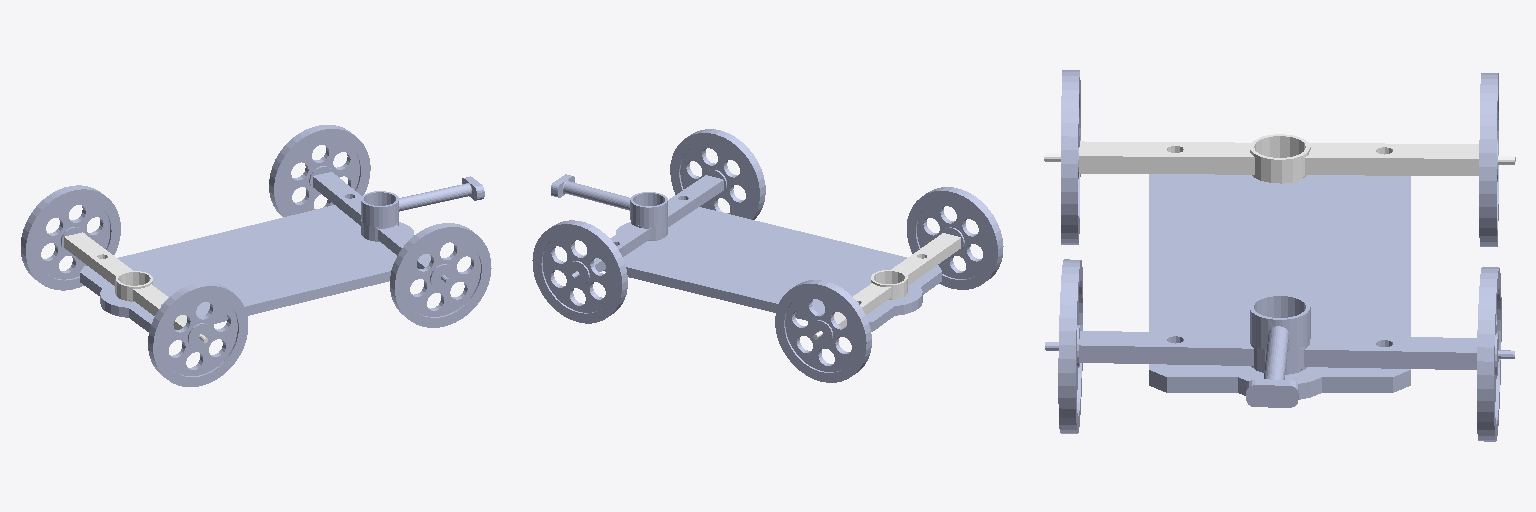
robot.urdf — ilk_urdf_denemesi:
<?xml version="1.0" encoding="utf-8"?>
<!-- This URDF was automatically created by SolidWorks to URDF Exporter! Originally created by [author] ([email redacted]) 
     Commit Version: 1.6.0-4-g7f85cfe  Build Version: 1.6.7995.38578
     For more information, please see http://wiki.ros.org/sw_urdf_exporter -->
<robot
  name="ilk_urdf_denemesi">
  <link
    name="arac_govdesi">
    <inertial>
      <origin
        xyz="3.4694E-18 -2.6021E-18 -0.005"
        rpy="0 0 0" />
      <mass
        value="0.44165" />
      <inertia
        ixx="0.00083732"
        ixy="2.1783E-20"
        ixz="-4.442E-21"
        iyy="0.0032823"
        iyz="-2.7934E-21"
        izz="0.0041123" />
    </inertial>
    <visual>
      <origin
        xyz="0 0 0"
        rpy="0 0 0" />
      <geometry>
        <mesh
          filename="package://ilk_urdf_denemesi/meshes/arac_govdesi.STL" />
      </geometry>
      <material
        name="">
        <color
          rgba="0.79216 0.81961 0.93333 1" />
      </material>
    </visual>
    <collision>
      <origin
        xyz="0 0 0"
        rpy="0 0 0" />
      <geometry>
        <mesh
          filename="package://ilk_urdf_denemesi/meshes/arac_govdesi.STL" />
      </geometry>
    </collision>
  </link>
  <link
    name="on_aks">
    <inertial>
      <origin
        xyz="0.0121919072284463 -0.000539071904290639 -0.0128442176525162"
        rpy="0 0 0" />
      <mass
        value="0.0629857665072841" />
      <inertia
        ixx="0.000230335933993847"
        ixy="-8.99928503974113E-06"
        ixz="1.68802234457314E-11"
        iyy="2.71934378558384E-05"
        iyz="3.31750727949568E-12"
        izz="0.000255953839381208" />
    </inertial>
    <visual>
      <origin
        xyz="0 0 0"
        rpy="0 0 0" />
      <geometry>
        <mesh
          filename="package://ilk_urdf_denemesi/meshes/on_aks.STL" />
      </geometry>
      <material
        name="">
        <color
          rgba="0.792156862745098 0.819607843137255 0.933333333333333 1" />
      </material>
    </visual>
    <collision>
      <origin
        xyz="0 0 0"
        rpy="0 0 0" />
      <geometry>
        <mesh
          filename="package://ilk_urdf_denemesi/meshes/on_aks.STL" />
      </geometry>
    </collision>
  </link>
  <joint
    name="onaks"
    type="continuous">
    <origin
      xyz="0.13 0 0.025"
      rpy="0 0 0" />
    <parent
      link="arac_govdesi" />
    <child
      link="on_aks" />
    <axis
      xyz="0 0 1" />
    <limit
      effort="20"
      velocity="20" />
    <dynamics
      damping="0.01"
      friction="0.01" />
  </joint>
  <link
    name="on_sag_teker">
    <inertial>
      <origin
        xyz="5.13478148889135E-16 1.49186218934005E-16 0"
        rpy="0 0 0" />
      <mass
        value="0.0510398850465441" />
      <inertia
        ixx="3.84020648959416E-05"
        ixy="-2.54347677969653E-20"
        ixz="2.11758236813575E-21"
        iyy="3.84020648959417E-05"
        iyz="-1.17059366520985E-21"
        izz="7.61460321044019E-05" />
    </inertial>
    <visual>
      <origin
        xyz="0 0 0"
        rpy="0 0 0" />
      <geometry>
        <mesh
          filename="package://ilk_urdf_denemesi/meshes/on_sag_teker.STL" />
      </geometry>
      <material
        name="">
        <color
          rgba="0.792156862745098 0.819607843137255 0.933333333333333 1" />
      </material>
    </visual>
    <collision>
      <origin
        xyz="0 0 0"
        rpy="0 0 0" />
      <geometry>
        <mesh
          filename="package://ilk_urdf_denemesi/meshes/on_sag_teker.STL" />
      </geometry>
    </collision>
  </link>
  <joint
    name="onsag"
    type="continuous">
    <origin
      xyz="-0.0053005 -0.11988 -0.0175"
      rpy="1.5708 0 -0.044185" />
    <parent
      link="on_aks" />
    <child
      link="on_sag_teker" />
    <axis
      xyz="0 0 1" />
    <limit
      effort="200"
      velocity="200" />
    <dynamics
      damping="0.1"
      friction="0.1" />
  </joint>
  <link
    name="on_sol_teker">
    <inertial>
      <origin
        xyz="5.13478148889135E-16 -2.37657116208823E-16 2.77555756156289E-17"
        rpy="0 0 0" />
      <mass
        value="0.0510398850465443" />
      <inertia
        ixx="3.84020648959417E-05"
        ixy="1.39282940059586E-20"
        ixz="-3.49401090742399E-21"
        iyy="3.84020648959417E-05"
        iyz="4.85626919134204E-21"
        izz="7.61460321044021E-05" />
    </inertial>
    <visual>
      <origin
        xyz="0 0 0"
        rpy="0 0 0" />
      <geometry>
        <mesh
          filename="package://ilk_urdf_denemesi/meshes/on_sol_teker.STL" />
      </geometry>
      <material
        name="">
        <color
          rgba="0.792156862745098 0.819607843137255 0.933333333333333 1" />
      </material>
    </visual>
    <collision>
      <origin
        xyz="0 0 0"
        rpy="0 0 0" />
      <geometry>
        <mesh
          filename="package://ilk_urdf_denemesi/meshes/on_sol_teker.STL" />
      </geometry>
    </collision>
  </link>
  <joint
    name="onsol"
    type="continuous">
    <origin
      xyz="0.0053005 0.11988 -0.0175"
      rpy="1.5708 0 -0.044185" />
    <parent
      link="on_aks" />
    <child
      link="on_sol_teker" />
    <axis
      xyz="0 0 1" />
    <limit
      effort="200"
      velocity="200" />
    <dynamics
      damping="0.1"
      friction="0.1" />
  </joint>
  <link
    name="arka_aks">
    <inertial>
      <origin
        xyz="0 0 0"
        rpy="0 0 0" />
      <mass
        value="0" />
      <inertia
        ixx="0"
        ixy="0"
        ixz="0"
        iyy="0"
        iyz="0"
        izz="0" />
    </inertial>
    <visual>
      <origin
        xyz="0 0 0"
        rpy="0 0 0" />
      <geometry>
        <mesh
          filename="package://ilk_urdf_denemesi/meshes/arka_aks.STL" />
      </geometry>
      <material
        name="">
        <color
          rgba="1 1 1 1" />
      </material>
    </visual>
    <collision>
      <origin
        xyz="0 0 0"
        rpy="0 0 0" />
      <geometry>
        <mesh
          filename="package://ilk_urdf_denemesi/meshes/arka_aks.STL" />
      </geometry>
    </collision>
  </link>
  <joint
    name="arkaaks"
    type="continuous">
    <origin
      xyz="-0.13 0 0.0075"
      rpy="0 0 0" />
    <parent
      link="arac_govdesi" />
    <child
      link="arka_aks" />
    <axis
      xyz="0 0 1" />
    <limit
      effort="20"
      velocity="20" />
    <dynamics
      damping="0.01"
      friction="0.01" />
  </joint>
  <link
    name="arka_sag_teker">
    <inertial>
      <origin
        xyz="7.24420523567915E-14 1.85615411929518E-16 -7.7715611723761E-16"
        rpy="0 0 0" />
      <mass
        value="0.0510398850465442" />
      <inertia
        ixx="3.84020648959416E-05"
        ixy="-2.94036447746244E-20"
        ixz="2.44051367927645E-20"
        iyy="3.84020648959417E-05"
        iyz="-5.859850067467E-22"
        izz="7.6146032104402E-05" />
    </inertial>
    <visual>
      <origin
        xyz="0 0 0"
        rpy="0 0 0" />
      <geometry>
        <mesh
          filename="package://ilk_urdf_denemesi/meshes/arka_sag_teker.STL" />
      </geometry>
      <material
        name="">
        <color
          rgba="0.792156862745098 0.819607843137255 0.933333333333333 1" />
      </material>
    </visual>
    <collision>
      <origin
        xyz="0 0 0"
        rpy="0 0 0" />
      <geometry>
        <mesh
          filename="package://ilk_urdf_denemesi/meshes/arka_sag_teker.STL" />
      </geometry>
    </collision>
  </link>
  <joint
    name="arkasag"
    type="continuous">
    <origin
      xyz="-0.0018905 -0.11999 0"
      rpy="1.5708 0 -0.015755" />
    <parent
      link="arka_aks" />
    <child
      link="arka_sag_teker" />
    <axis
      xyz="0 0 1" />
    <limit
      effort="200"
      velocity="200" />
    <dynamics
      damping="0.1"
      friction="0.1" />
  </joint>
  <link
    name="arka_sol_teker">
    <inertial>
      <origin
        xyz="-7.16371406639382E-14 1.83880688453542E-16 8.88178419700125E-16"
        rpy="0 0 0" />
      <mass
        value="0.0510398850465442" />
      <inertia
        ixx="3.84020648959416E-05"
        ixy="-3.0250340681173E-20"
        ixz="6.8292031372378E-21"
        iyy="3.84020648959417E-05"
        iyz="-5.09967751956374E-21"
        izz="7.6146032104402E-05" />
    </inertial>
    <visual>
      <origin
        xyz="0 0 0"
        rpy="0 0 0" />
      <geometry>
        <mesh
          filename="package://ilk_urdf_denemesi/meshes/arka_sol_teker.STL" />
      </geometry>
      <material
        name="">
        <color
          rgba="0.792156862745098 0.819607843137255 0.933333333333333 1" />
      </material>
    </visual>
    <collision>
      <origin
        xyz="0 0 0"
        rpy="0 0 0" />
      <geometry>
        <mesh
          filename="package://ilk_urdf_denemesi/meshes/arka_sol_teker.STL" />
      </geometry>
    </collision>
  </link>
  <joint
    name="arkasol"
    type="continuous">
    <origin
      xyz="0.0018905 0.11999 0"
      rpy="1.5708 0 -0.015755" />
    <parent
      link="arka_aks" />
    <child
      link="arka_sol_teker" />
    <axis
      xyz="0 0 1" />
    <limit
      effort="200"
      velocity="200" />
    <dynamics
      damping="0.1"
      friction="0.1" />
  </joint>
</robot>

--- Render facts (derived) ---
The picture shows the robot from 3 angles, left to right: view 1: azimuth 30°, elevation 25°; view 2: azimuth 150°, elevation 25°; view 3: azimuth 270°, elevation 25°; orthographic projection.
Model ilk_urdf_denemesi with 7 links and 6 joints (6 continuous), rooted at arac_govdesi, posed all joints at 0.
Links seen in each view (by area): view 1: arac_govdesi, on_sag_teker, arka_sag_teker, arka_sol_teker, on_sol_teker, on_aks, arka_aks; view 2: arac_govdesi, arka_sol_teker, on_sol_teker, arka_sag_teker, on_aks, on_sag_teker, arka_aks; view 3: arac_govdesi, on_aks, arka_aks, on_sol_teker, on_sag_teker, arka_sol_teker, arka_sag_teker.
Boxes of the visible links, x1=… form: arac_govdesi: x1=80, y1=205, x2=414, y2=331; on_sag_teker: x1=390, y1=223, x2=491, y2=327; arka_sag_teker: x1=148, y1=282, x2=247, y2=386; arka_sol_teker: x1=21, y1=185, x2=120, y2=290; on_sol_teker: x1=269, y1=125, x2=370, y2=216; on_aks: x1=313, y1=172, x2=484, y2=283; arka_aks: x1=64, y1=232, x2=207, y2=342; arac_govdesi: x1=603, y1=207, x2=941, y2=331; arka_sol_teker: x1=775, y1=280, x2=871, y2=382; on_sol_teker: x1=532, y1=220, x2=627, y2=323; arka_sag_teker: x1=907, y1=187, x2=1003, y2=289; on_aks: x1=551, y1=174, x2=723, y2=279; on_sag_teker: x1=670, y1=129, x2=765, y2=219; arka_aks: x1=813, y1=233, x2=960, y2=339; arac_govdesi: x1=1149, y1=174, x2=1410, y2=399; on_aks: x1=1045, y1=294, x2=1514, y2=407; arka_aks: x1=1044, y1=134, x2=1515, y2=183; on_sol_teker: x1=1477, y1=267, x2=1501, y2=441; on_sag_teker: x1=1058, y1=259, x2=1082, y2=433; arka_sol_teker: x1=1479, y1=73, x2=1498, y2=246; arka_sag_teker: x1=1061, y1=70, x2=1080, y2=244.
Bounding box of the posed robot: 0.4125 × 0.27 × 0.1 m (x, y, z).
Meshes: 7 distinct files referenced, 7 mesh visuals loaded (7 binary STL).